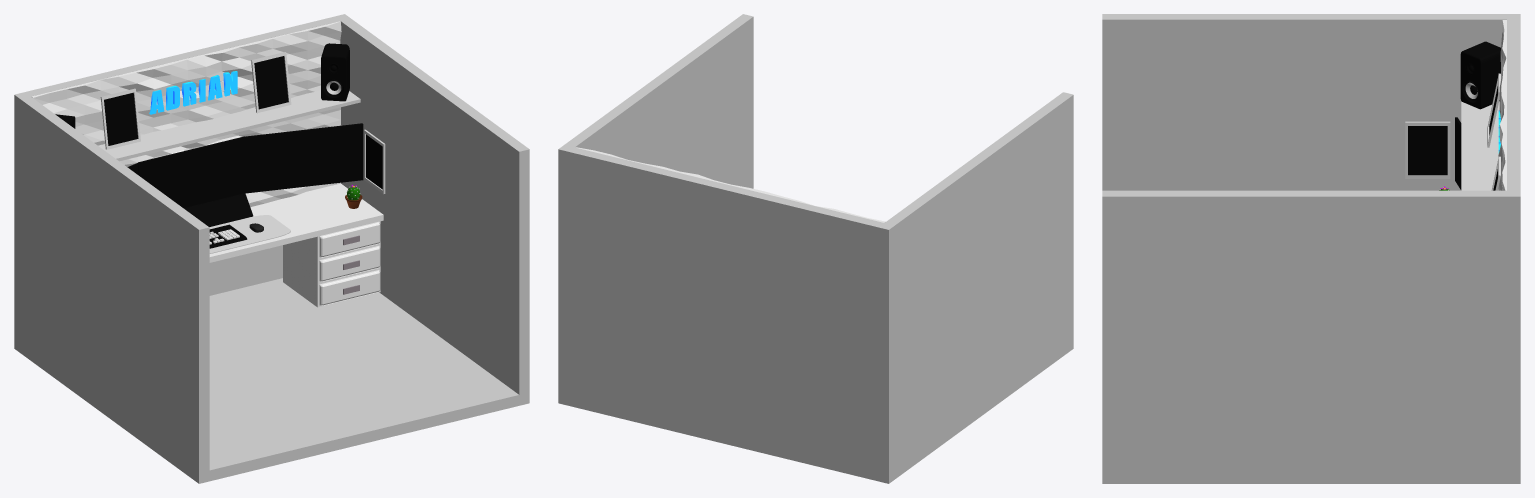
File: Desk.glb
3 renders of one model, left to right at view 1: azimuth 30°, elevation 25°; view 2: azimuth 150°, elevation 25°; view 3: azimuth 270°, elevation 25°, orthographic. The views are drawn at different scales.
Visible parts, largest first — view 1: Room, WallDecoration, Drawer.001, MonitorScreen.002, Desk, MonitorScreen.001, PaintingShelf, Painting.001, Painting, Text, Cube.001, MousePad (+4 smaller); view 2: Room, WallDecoration; view 3: Room, PaintingShelf, Painting.002, Cube, WallDecoration.
Part boxes in pixels (bbox=[...]): Room: bbox=[14, 14, 529, 483]; WallDecoration: bbox=[31, 21, 341, 207]; Drawer.001: bbox=[283, 221, 380, 307]; MonitorScreen.002: bbox=[247, 125, 361, 191]; Desk: bbox=[209, 183, 383, 262]; MonitorScreen.001: bbox=[141, 139, 243, 207]; PaintingShelf: bbox=[98, 90, 360, 161]; Painting.001: bbox=[251, 52, 291, 112]; Painting: bbox=[100, 88, 140, 149]; Text: bbox=[149, 71, 237, 114]; Cube.001: bbox=[321, 43, 349, 101]; MousePad: bbox=[209, 215, 290, 253]; Room: bbox=[558, 14, 1073, 483]; WallDecoration: bbox=[575, 147, 885, 222]; Room: bbox=[1102, 14, 1520, 483]; PaintingShelf: bbox=[1461, 101, 1499, 190]; Painting.002: bbox=[1405, 121, 1450, 178]; Cube: bbox=[1460, 41, 1500, 109]; WallDecoration: bbox=[1498, 20, 1506, 190].
Bounding box in the file's own units: 8.54 × 6.27 × 8.27.
Materials: 20 (1 with a texture image).
